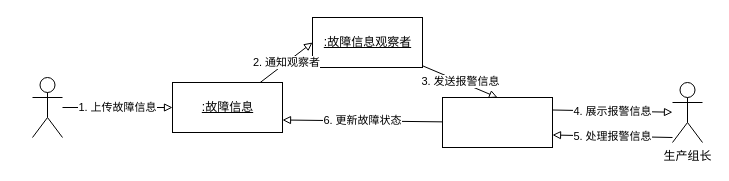
Image size: 729x181. Some labels were removed from this diagram. Each missing label, with the centre of its shape:
":生产组长终端" goes at [497,122].
"流水线员工" goes at [47,107].
